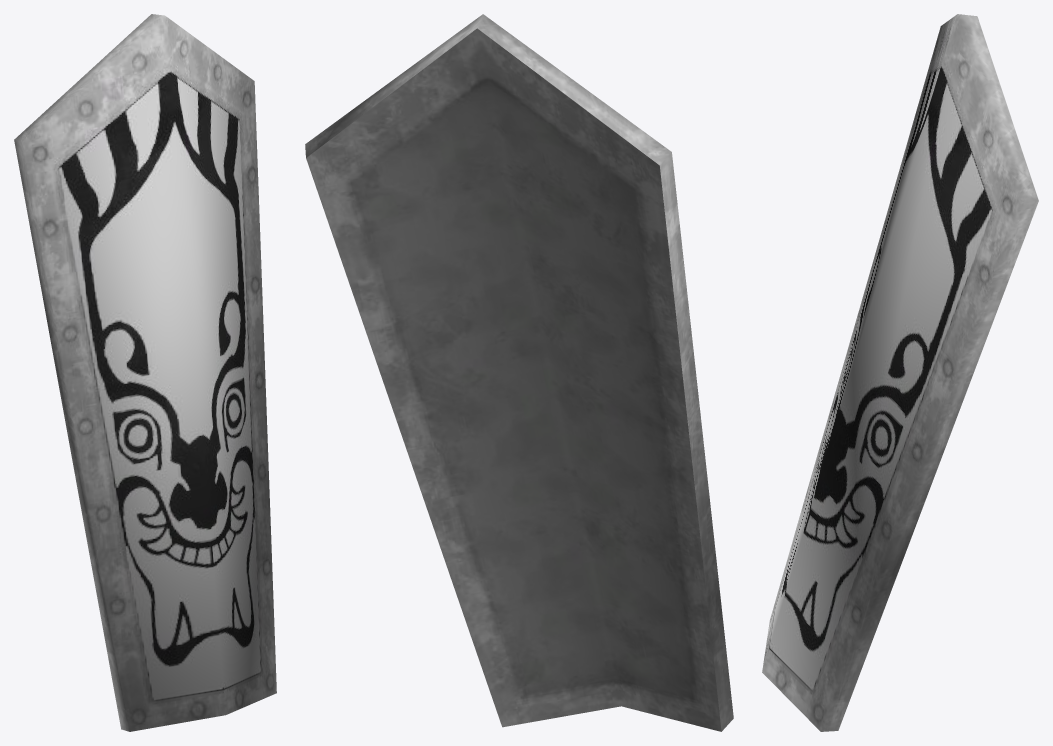
The model's file is shield-coppershields.glb.
3 views of the same model, side by side, from view 1: azimuth 30°, elevation 25°; view 2: azimuth 150°, elevation 25°; view 3: azimuth 270°, elevation 25° (orthographic). The views are drawn at different scales.
Bounding box in the file's own units: 0.5715 × 1.31 × 0.4725.
1 material, 1 textured.
